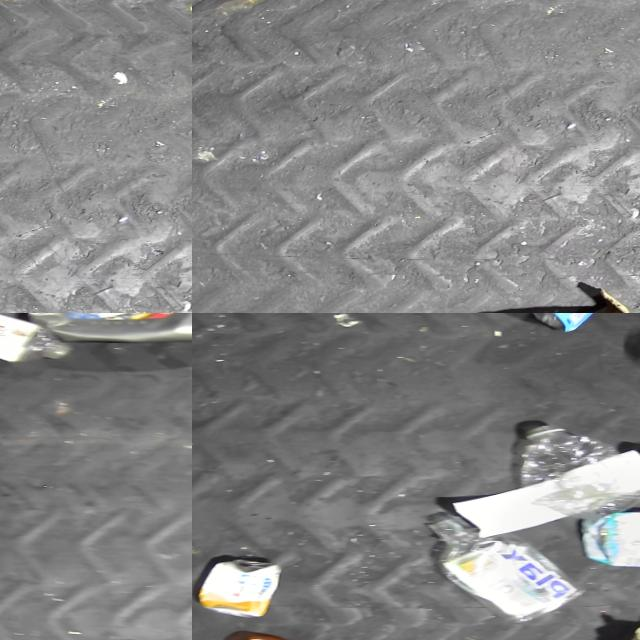can: (206, 558, 291, 617)
milk_jug: (584, 508, 640, 568)
non_white_jug: (23, 313, 192, 344), (521, 313, 640, 333)
plastic_bottle: (423, 512, 604, 624), (518, 422, 640, 518), (0, 313, 78, 364)
